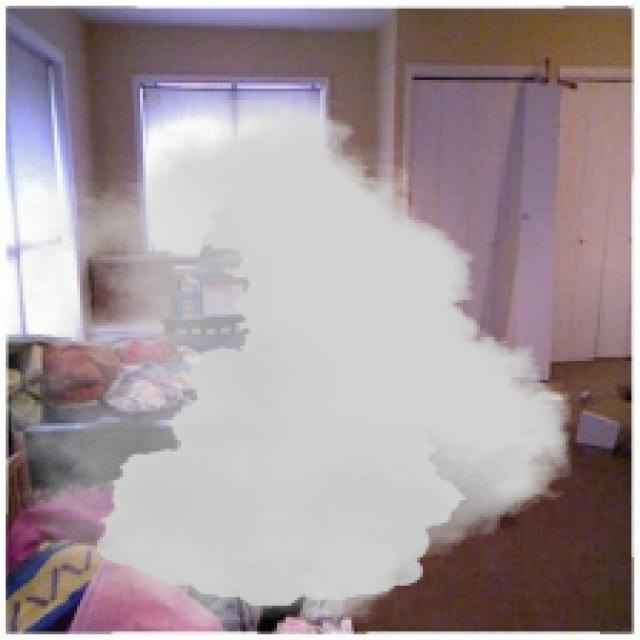smoke: (11, 100, 572, 631)
